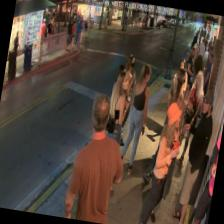person: (62, 91, 134, 224), (168, 86, 218, 224), (140, 99, 187, 224), (144, 73, 190, 185), (97, 71, 136, 192), (115, 60, 155, 176), (100, 64, 134, 172), (172, 69, 208, 164), (110, 53, 140, 145), (158, 67, 187, 160), (162, 57, 191, 146)
